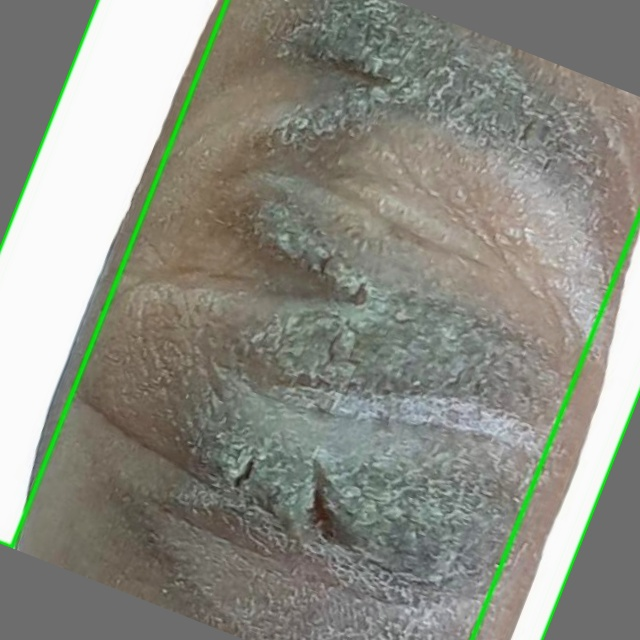Contact Dermatitis: (0, 0, 227, 547)
